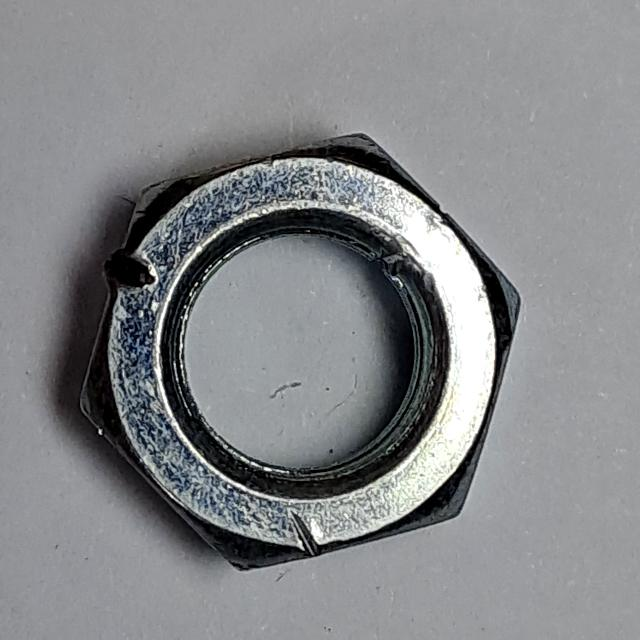Scratches: (70, 113, 541, 582)
